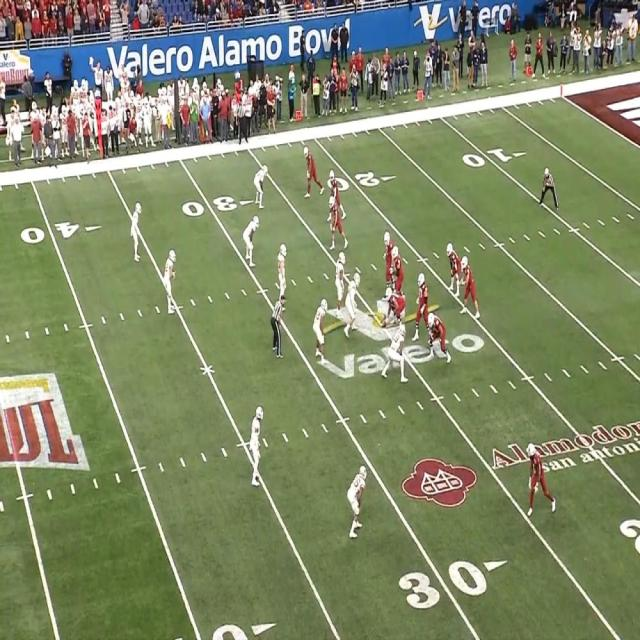center: (384, 289, 404, 322)
db: (347, 461, 363, 537), (255, 402, 267, 484), (165, 249, 177, 314), (130, 201, 142, 263), (254, 161, 268, 211)
lb: (312, 296, 328, 357), (274, 246, 290, 292)
qb: (462, 256, 476, 313)
